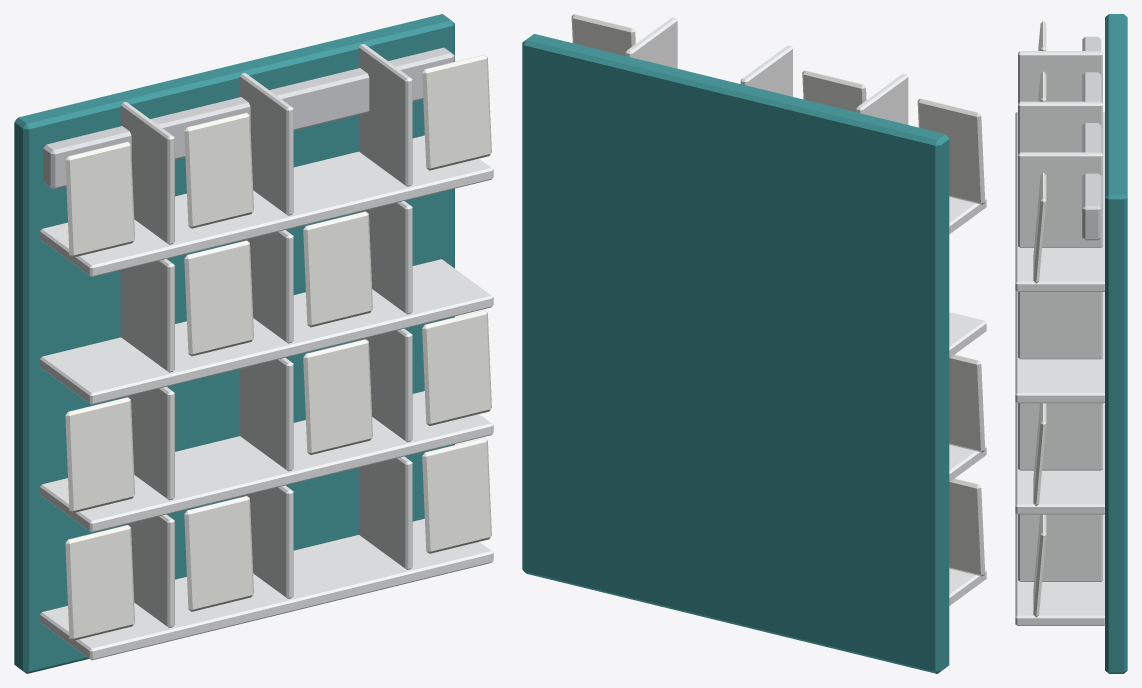
The model's file is dry-cleaners-and-alterations-shop-collection-ticket-ra-4743438d__34940.glb.
3 views of the same model, side by side, from view 1: azimuth 30°, elevation 25°; view 2: azimuth 150°, elevation 25°; view 3: azimuth 270°, elevation 25° (orthographic). The views are drawn at different scales.
Visible parts, largest first — view 1: collection-ticket-rack; view 2: collection-ticket-rack; view 3: collection-ticket-rack.
Part boxes in pixels (box(x1,y1,x2,y2)): collection-ticket-rack: box(14, 14, 493, 673); collection-ticket-rack: box(522, 14, 986, 673); collection-ticket-rack: box(1015, 14, 1127, 673).
Size of the model in its own units: 0.46 by 0.562 by 0.119.
